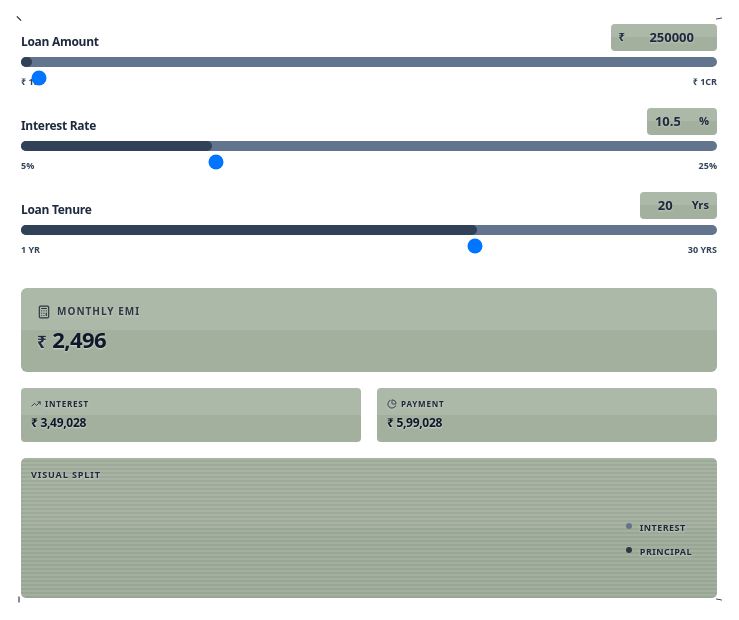
Test: Shared UI Components › EmiCalculator Component › renders sliders and calculates emi successfully
The width and height of the screenshot is (739, 620).
expect the number field named "Interest Rate Value" is shown: met, box [655,112,695,131]
expect the number field named "Loan Tenure Value" is shown: met, box [648,196,688,215]
// Check principal number input changes
Replace the text in the number field named "Loan Amount Value" with "500000" at (669, 37), box [629,28,709,47]
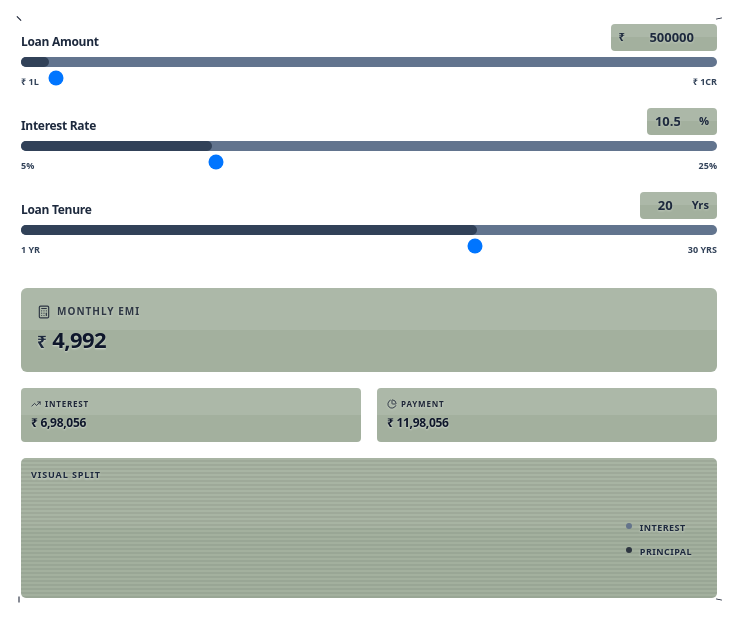
// Check principal slider change
Set the slider named "Loan Amount Range" to "1000000" at (91, 78), box [21,62,717,94]
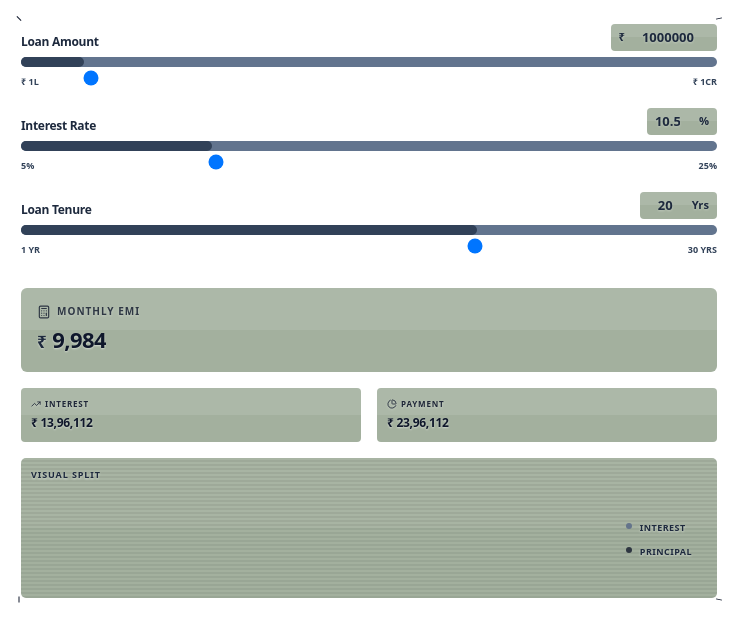
expect the number field named "Loan Amount Value" holds "1000000": met, box [629,28,709,47]
// Check interest rate input changes
Replace the text in the number field named "Interest Rate Value" with "12" at (675, 121), box [655,112,695,131]
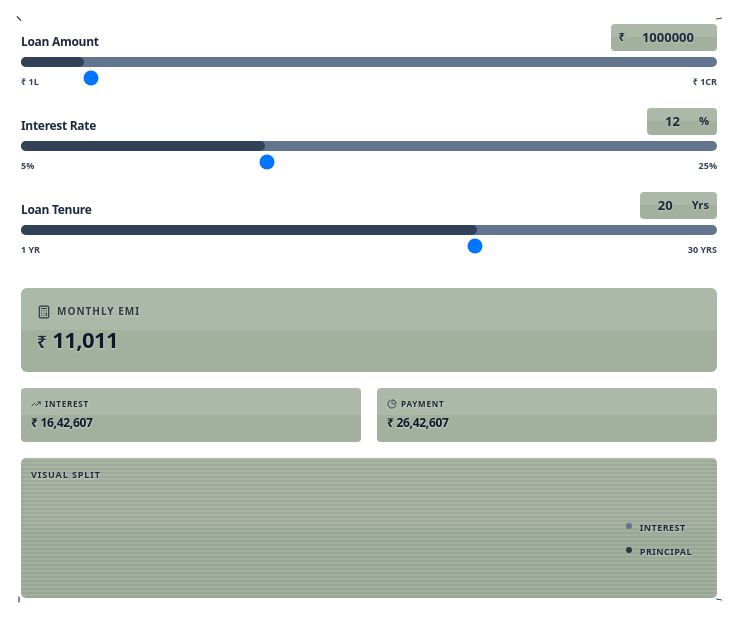
// Check interest rate slider change
Set the slider named "Interest Rate Range" to "15" at (369, 162), box [21,146,717,178]
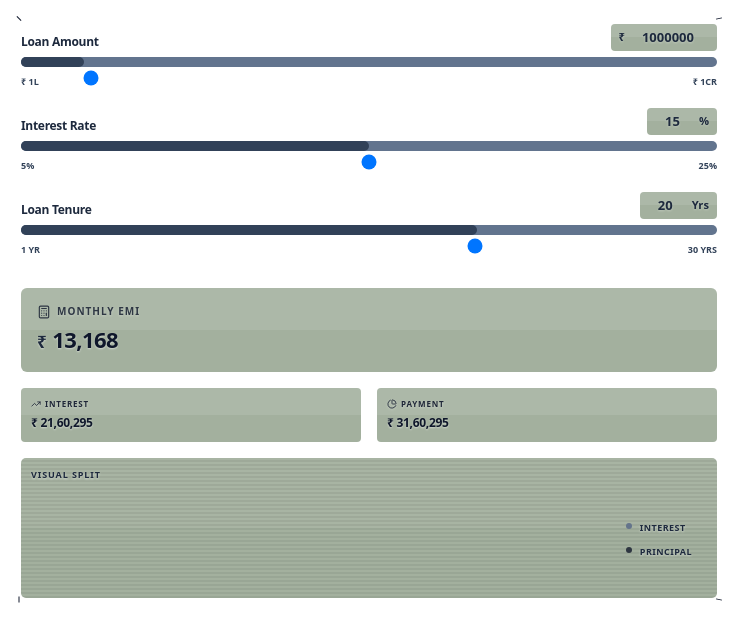
expect the number field named "Interest Rate Value" holds "15": met, box [655,112,695,131]
// Check tenure input changes
Replace the text in the number field named "Loan Tenure Value" with "15" at (668, 205), box [648,196,688,215]
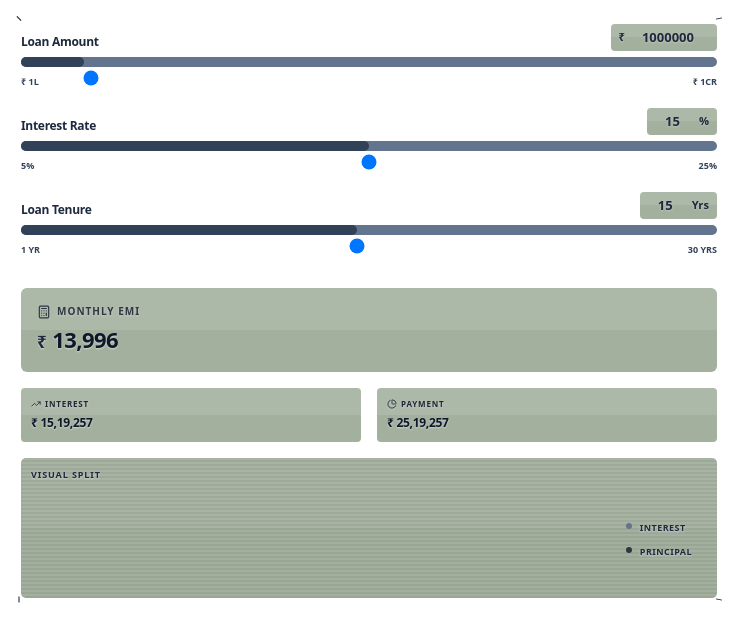
// Check tenure slider change
Set the slider named "Loan Tenure Range" to "10" at (240, 246), box [21,230,717,262]
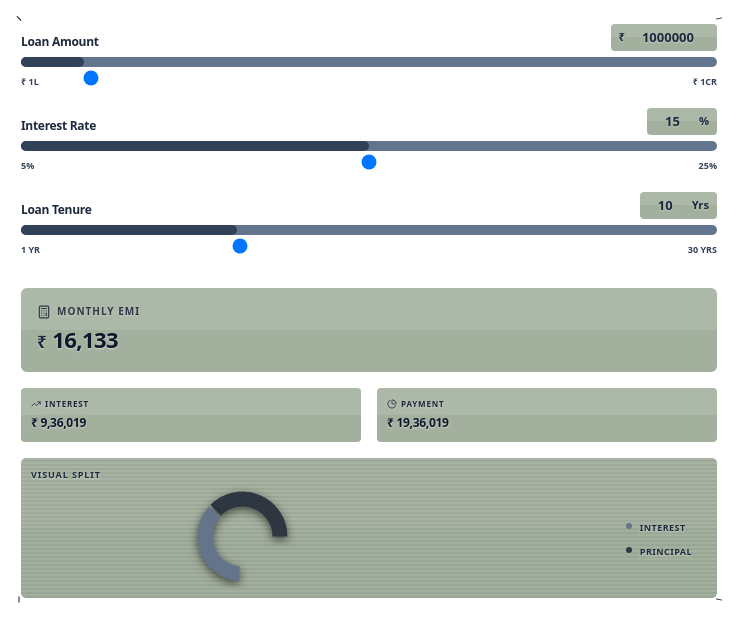
expect the number field named "Loan Tenure Value" holds "10": met, box [648,196,688,215]
